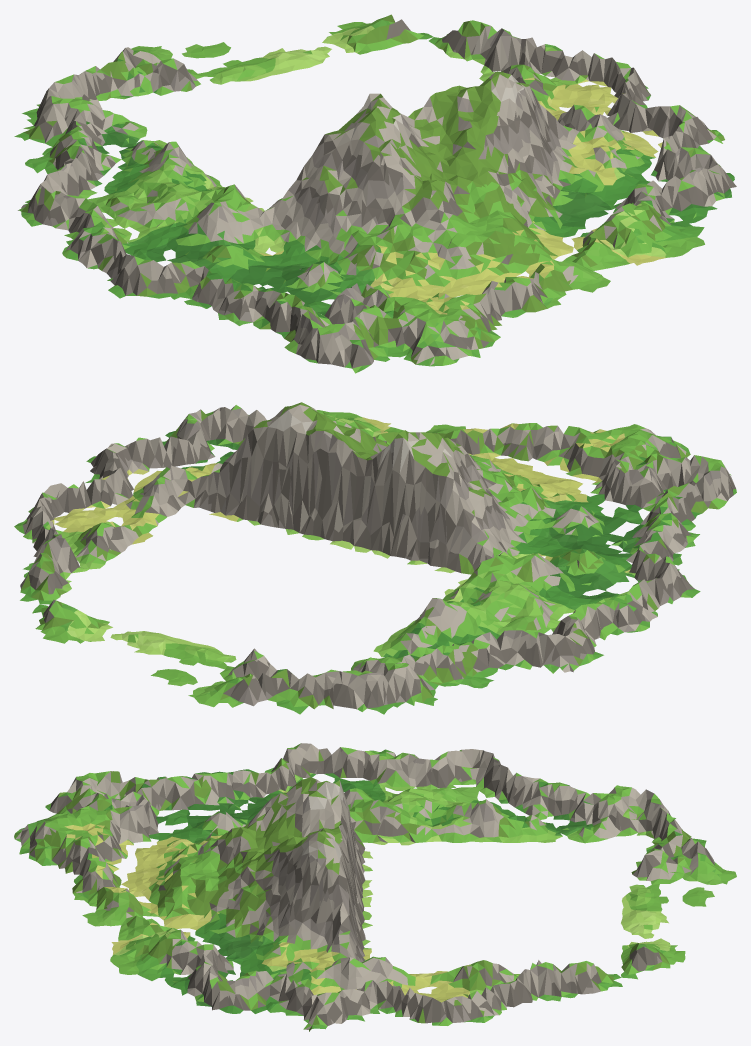
Rendered from Isl-orc3-Relief.fbx.
The picture shows the model from 3 angles, top to bottom: view 1: azimuth 30°, elevation 25°; view 2: azimuth 150°, elevation 25°; view 3: azimuth 270°, elevation 25°; orthographic projection. The views are drawn at different scales.
Parts seen in each view (by area): view 1: Isl-orc3-Relief-c11, Isl-orc3-Relief-c21, Isl-orc3-Relief-c12, Isl-orc3-Relief-c22, Isl-orc3-Relief-c10; view 2: Isl-orc3-Relief-c11, Isl-orc3-Relief-c12, Isl-orc3-Relief-c21, Isl-orc3-Relief-c22, Isl-orc3-Relief-c13; view 3: Isl-orc3-Relief-c21, Isl-orc3-Relief-c11, Isl-orc3-Relief-c12, Isl-orc3-Relief-c22, Isl-orc3-Relief-c10.
Boxes of the visible parts, <box> form: Isl-orc3-Relief-c11: <box>66,93,553,373</box>; Isl-orc3-Relief-c21: <box>408,71,736,305</box>; Isl-orc3-Relief-c12: <box>14,44,264,257</box>; Isl-orc3-Relief-c22: <box>203,14,650,126</box>; Isl-orc3-Relief-c10: <box>404,321,500,366</box>; Isl-orc3-Relief-c11: <box>354,423,736,627</box>; Isl-orc3-Relief-c12: <box>168,557,649,714</box>; Isl-orc3-Relief-c21: <box>85,402,489,549</box>; Isl-orc3-Relief-c22: <box>14,473,217,680</box>; Isl-orc3-Relief-c13: <box>188,688,243,707</box>; Isl-orc3-Relief-c21: <box>74,823,380,1031</box>; Isl-orc3-Relief-c11: <box>42,743,380,897</box>; Isl-orc3-Relief-c12: <box>376,749,715,897</box>; Isl-orc3-Relief-c22: <box>376,892,706,1025</box>; Isl-orc3-Relief-c10: <box>14,819,45,865</box>.
Size of the model in its own units: 84.17 by 15.18 by 94.93.
